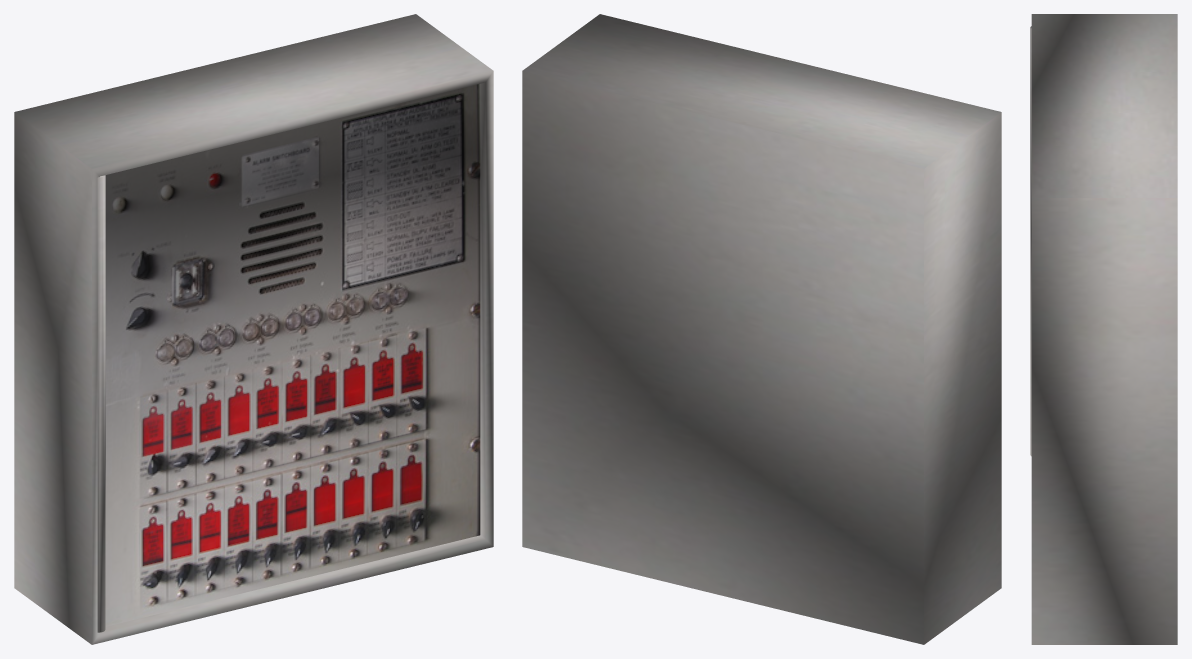
The model's file is ICAlarmPanel_Bridge.obj.
3 renders of one model, left to right at view 1: azimuth 30°, elevation 25°; view 2: azimuth 150°, elevation 25°; view 3: azimuth 270°, elevation 25°, orthographic. The views are drawn at different scales.
Parts seen in each view (by area): view 1: ICAlarmPanel_Bridge.obj; view 2: ICAlarmPanel_Bridge.obj; view 3: ICAlarmPanel_Bridge.obj.
Boxes of the visible parts, bbox=[...] form: ICAlarmPanel_Bridge.obj: bbox=[14, 14, 493, 644]; ICAlarmPanel_Bridge.obj: bbox=[522, 14, 1001, 644]; ICAlarmPanel_Bridge.obj: bbox=[1030, 14, 1177, 644].
Size of the model in its own units: 6.02 by 6.81 by 2.04.
